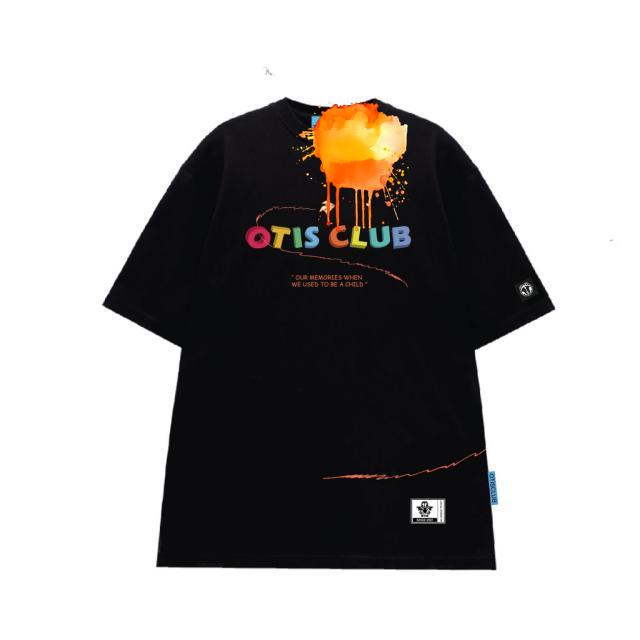stain: (300, 106, 402, 226)
